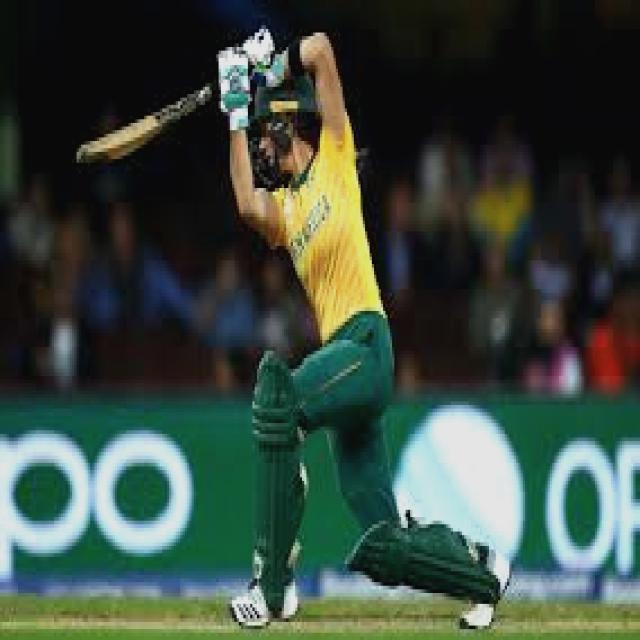bat: (56, 75, 232, 183)
toe: (70, 143, 108, 174)
